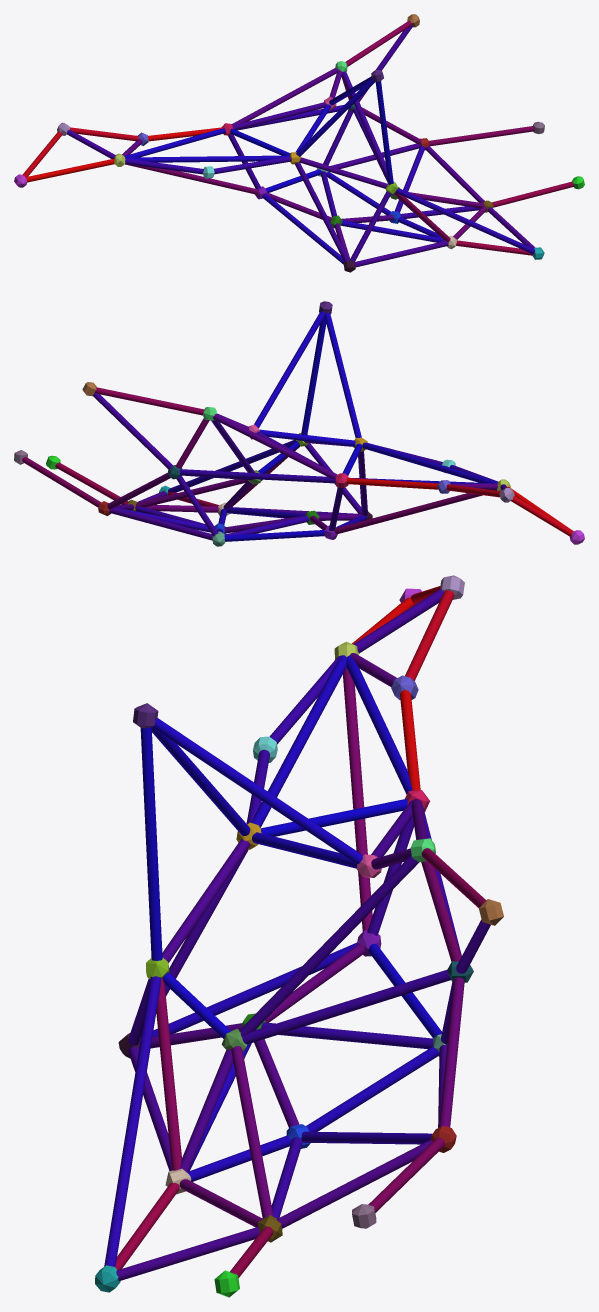
File: fg-00020-skel.obj
3 views of the same model, one above another, from view 1: azimuth 30°, elevation 25°; view 2: azimuth 150°, elevation 25°; view 3: azimuth 270°, elevation 25° (orthographic). The views are drawn at different scales.
Size of the model in its own units: 0.4323 by 0.1732 by 0.1467.
